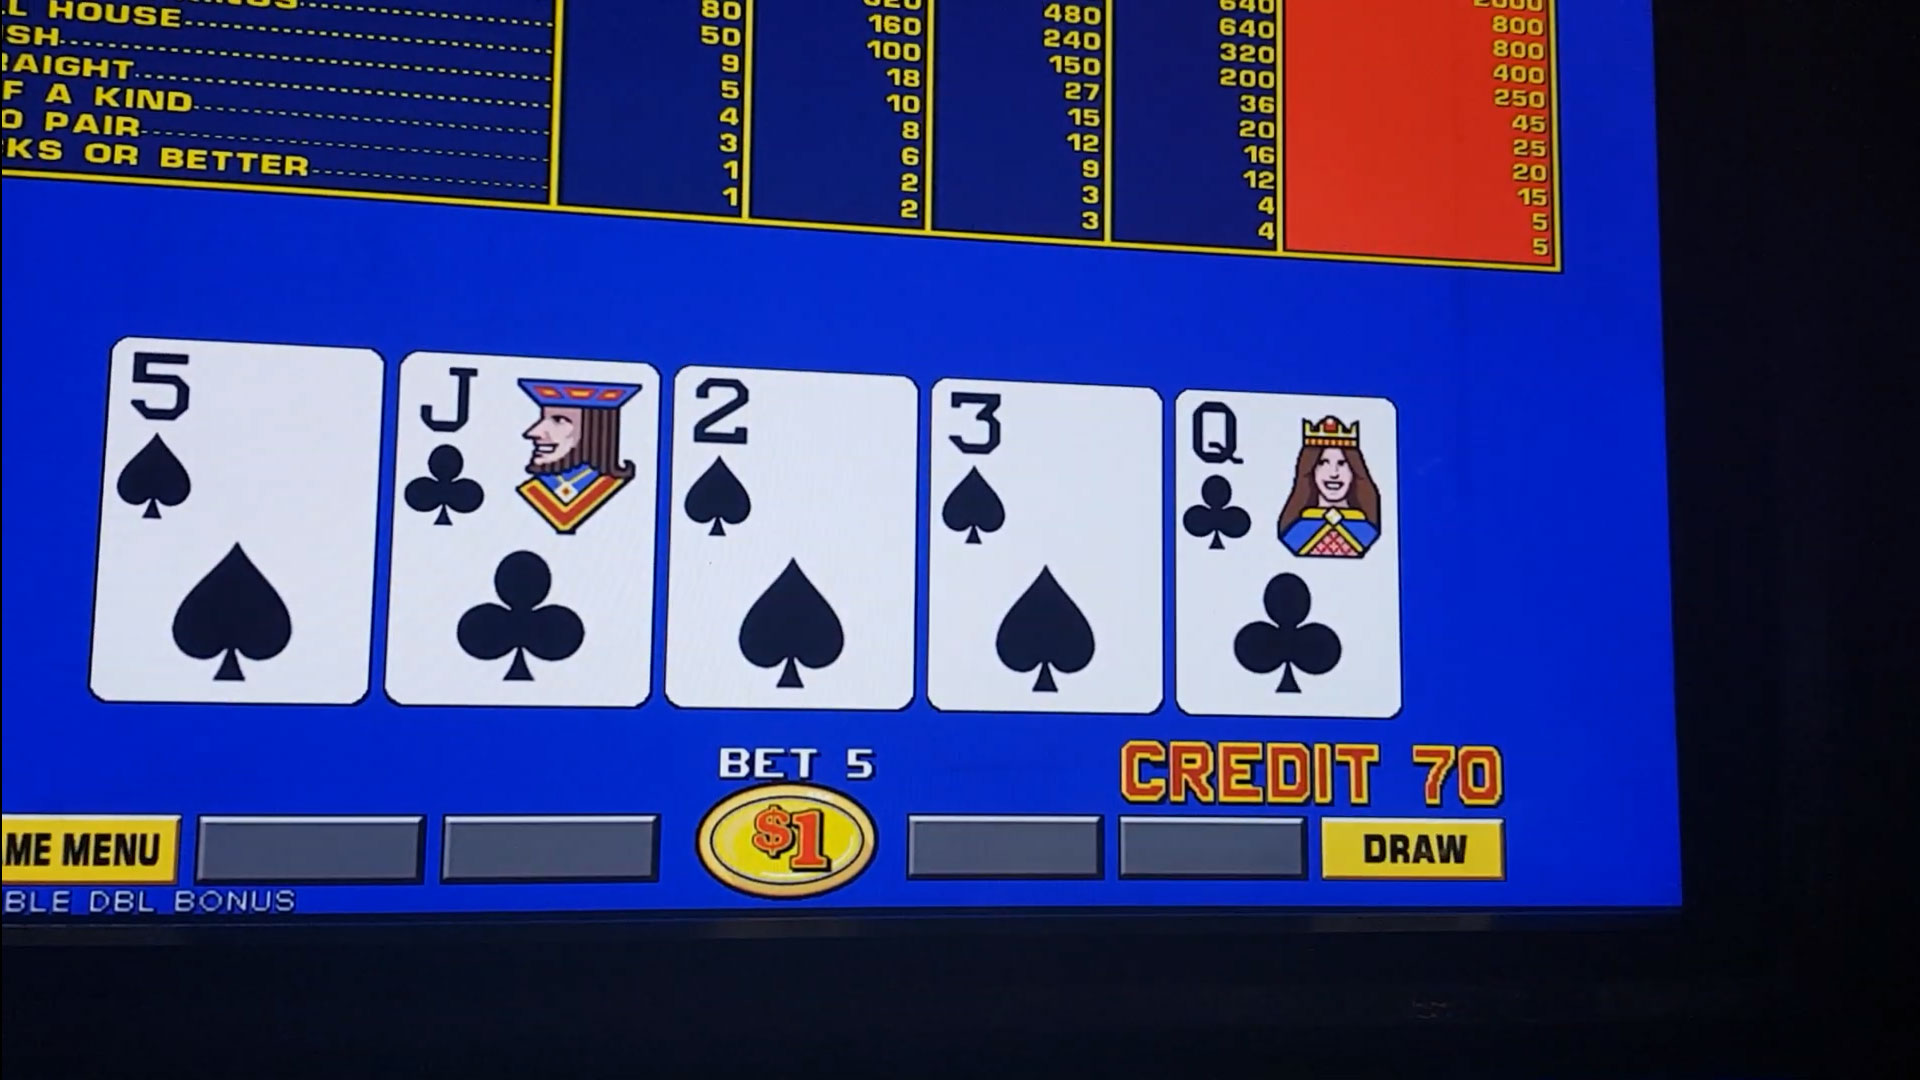CJ: (402, 365, 651, 542)
CQ: (1182, 402, 1386, 558)
S2: (676, 380, 911, 546)
S3: (934, 386, 1155, 549)
S5: (113, 353, 377, 530)
